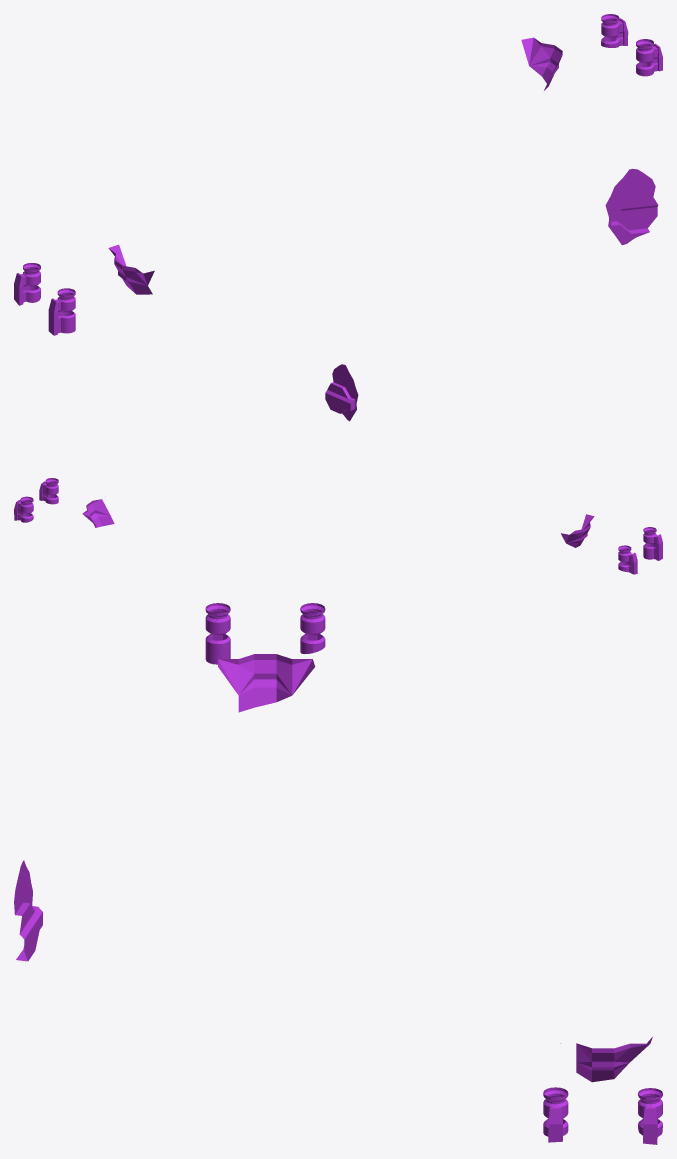
File: cluster12.fbx
3 renders of one model, top to bottom at view 1: azimuth 30°, elevation 25°; view 2: azimuth 150°, elevation 25°; view 3: azimuth 270°, elevation 25°, orthographic. The views are drawn at different scales.
Parts seen in each view (by area): view 1: cluster12; view 2: cluster12; view 3: cluster12.
Part boxes in pixels (x1,y1,x2,y2): cluster12: [14, 14, 662, 335]; cluster12: [14, 364, 662, 574]; cluster12: [14, 603, 662, 1144].
Size of the model in its own units: 785063 by 103544 by 442161.
